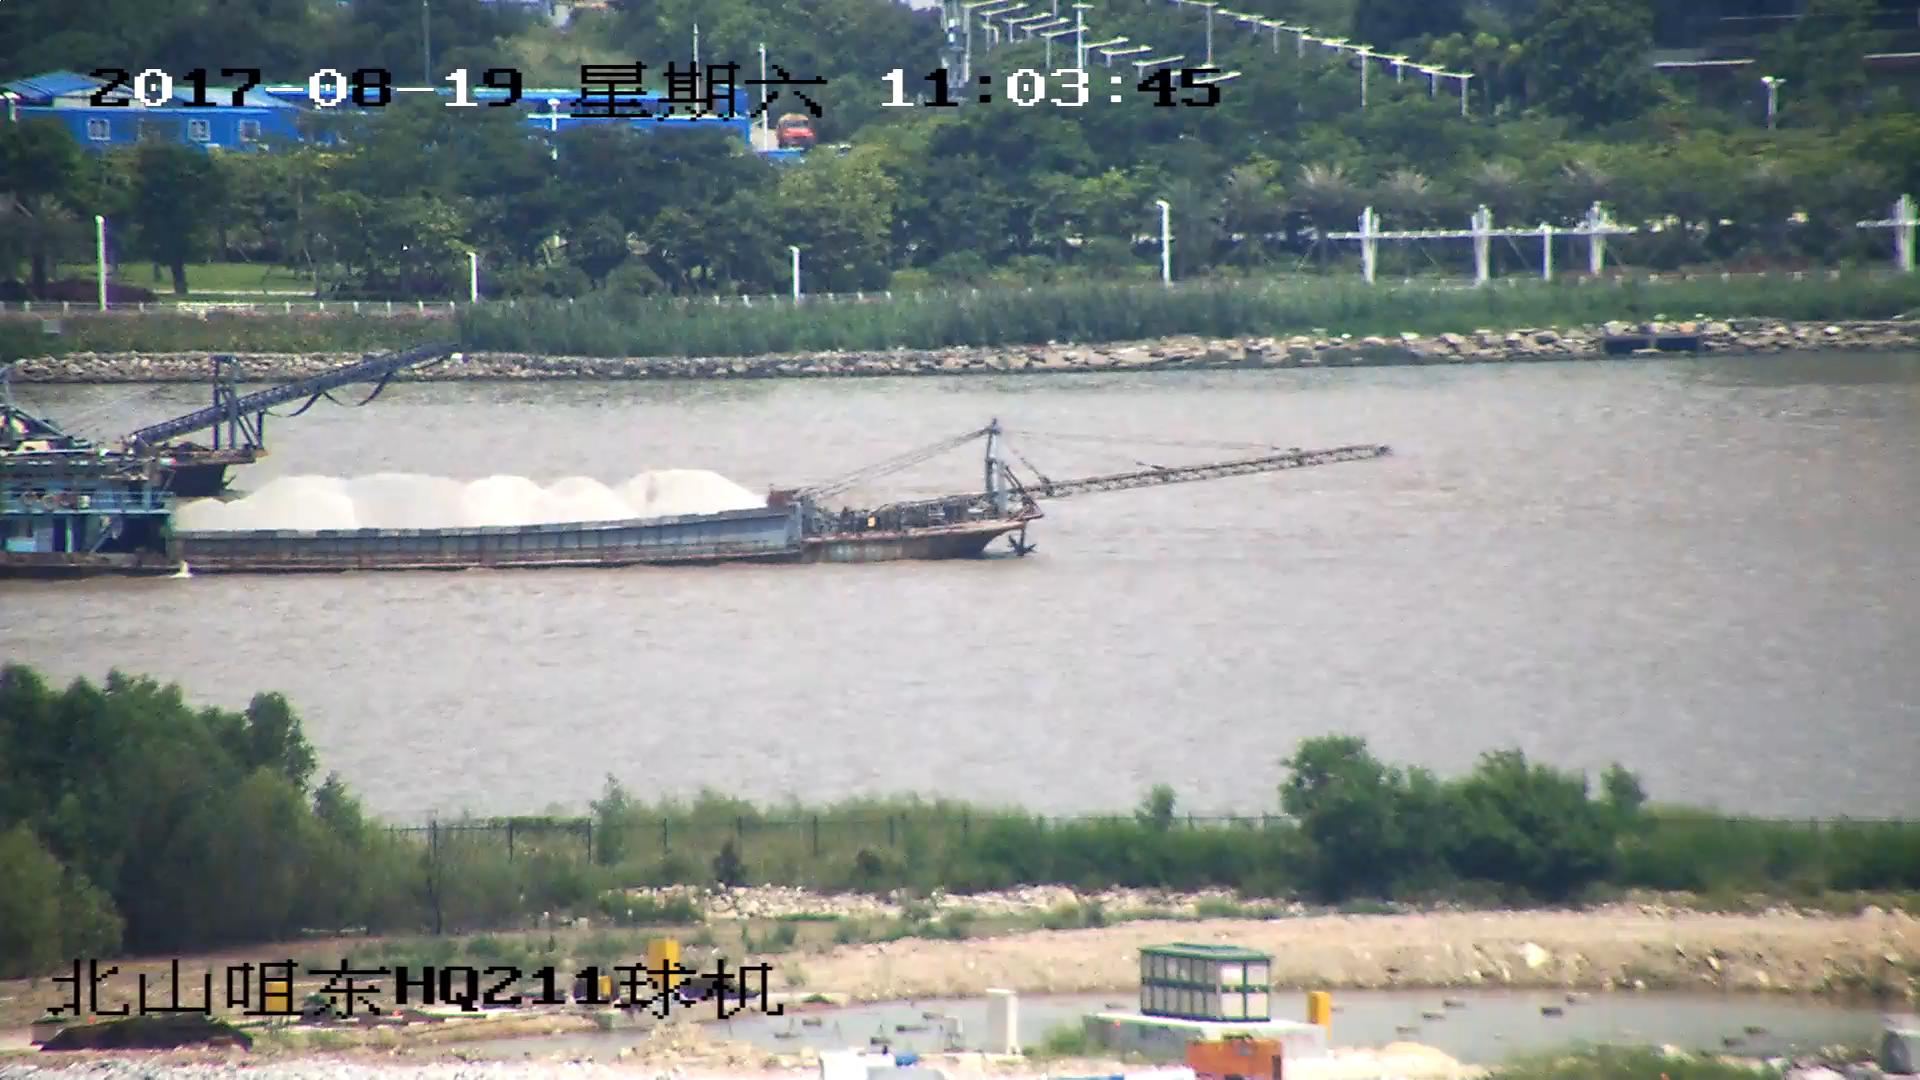ore carrier: (1, 430, 1386, 582), (1, 345, 451, 501)
